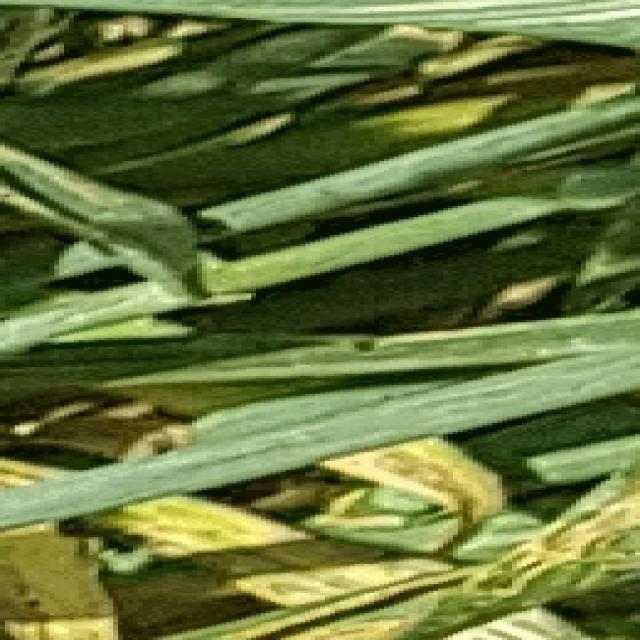Yellow Rust: (105, 513, 627, 622), (352, 454, 534, 503)
